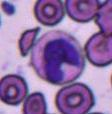N: (31, 30, 83, 84)
